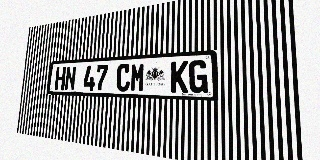4: (83, 65, 96, 91)
7: (95, 65, 108, 91)
C: (116, 63, 131, 92)
G: (189, 60, 208, 93)
H: (54, 67, 66, 90)
K: (170, 61, 188, 93)
M: (130, 63, 145, 92)
N: (64, 66, 76, 90)
